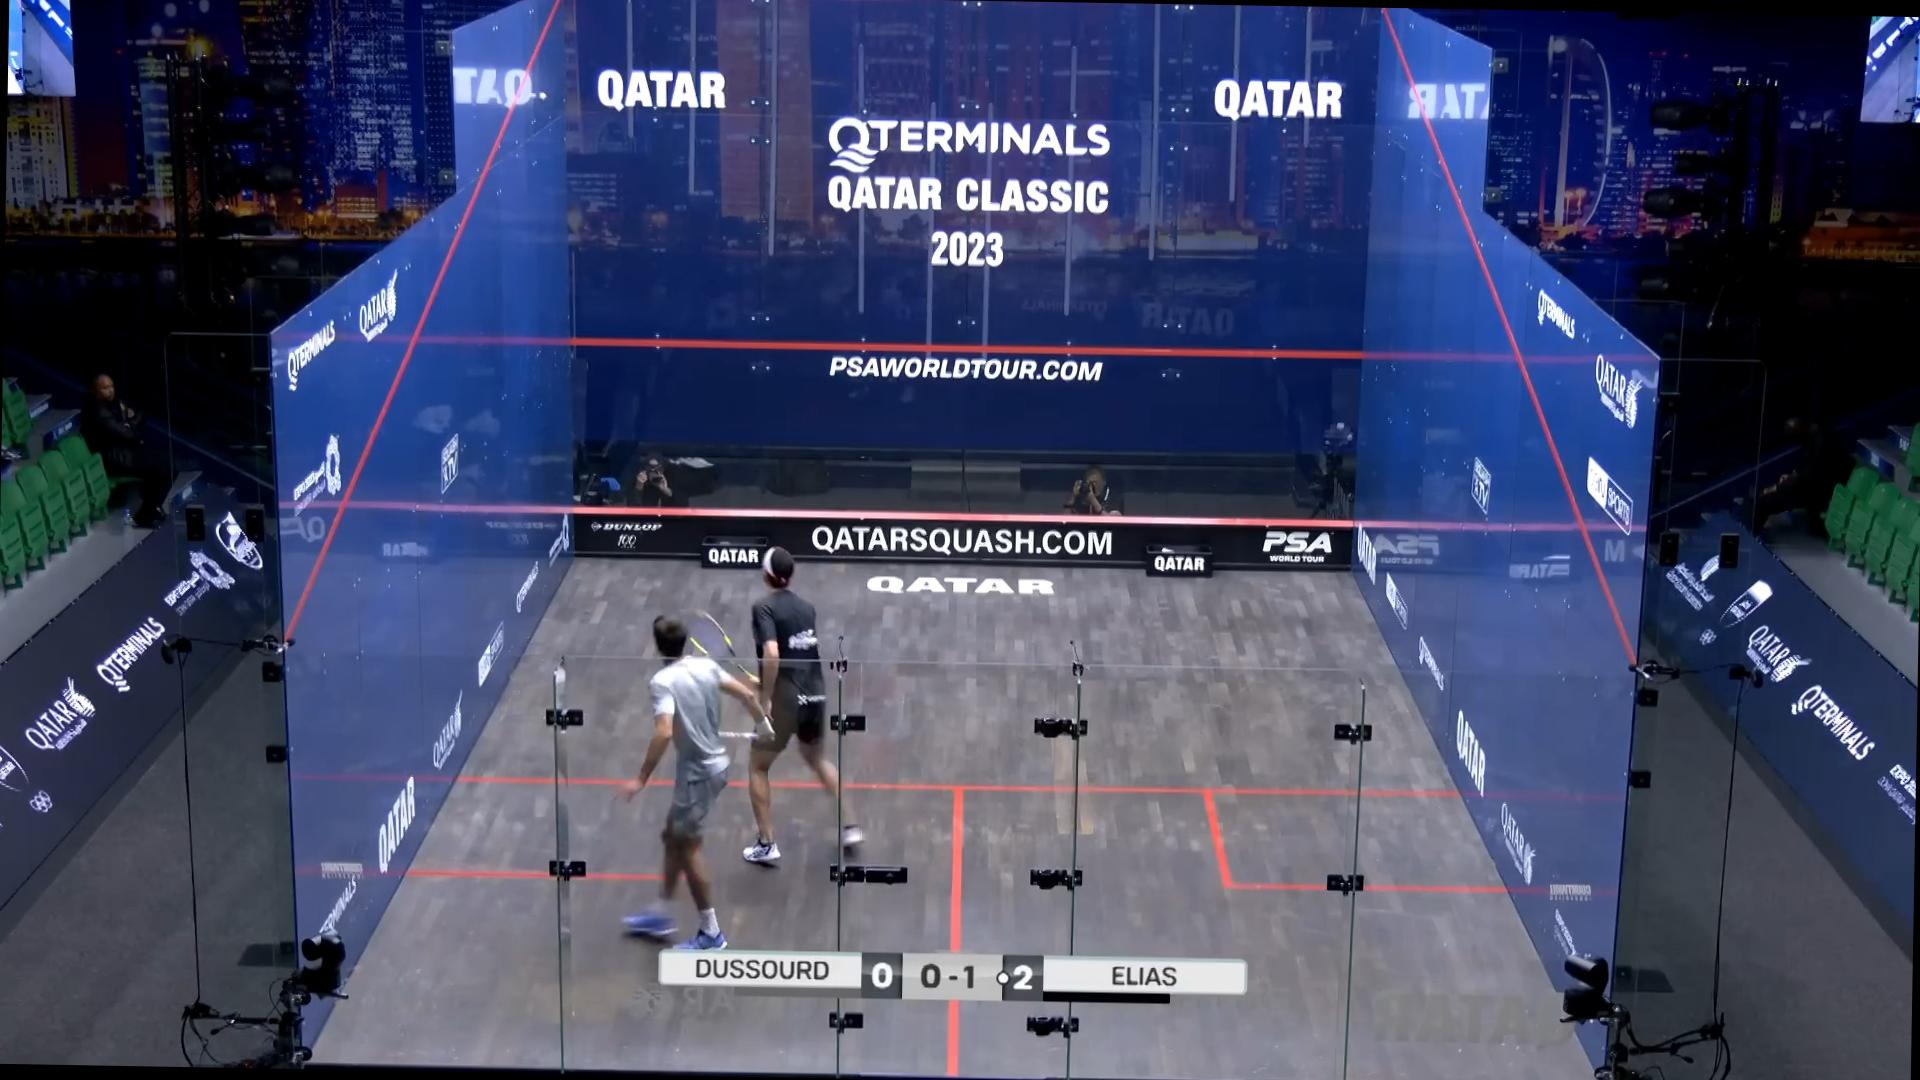Racket: (680, 607, 764, 680)
